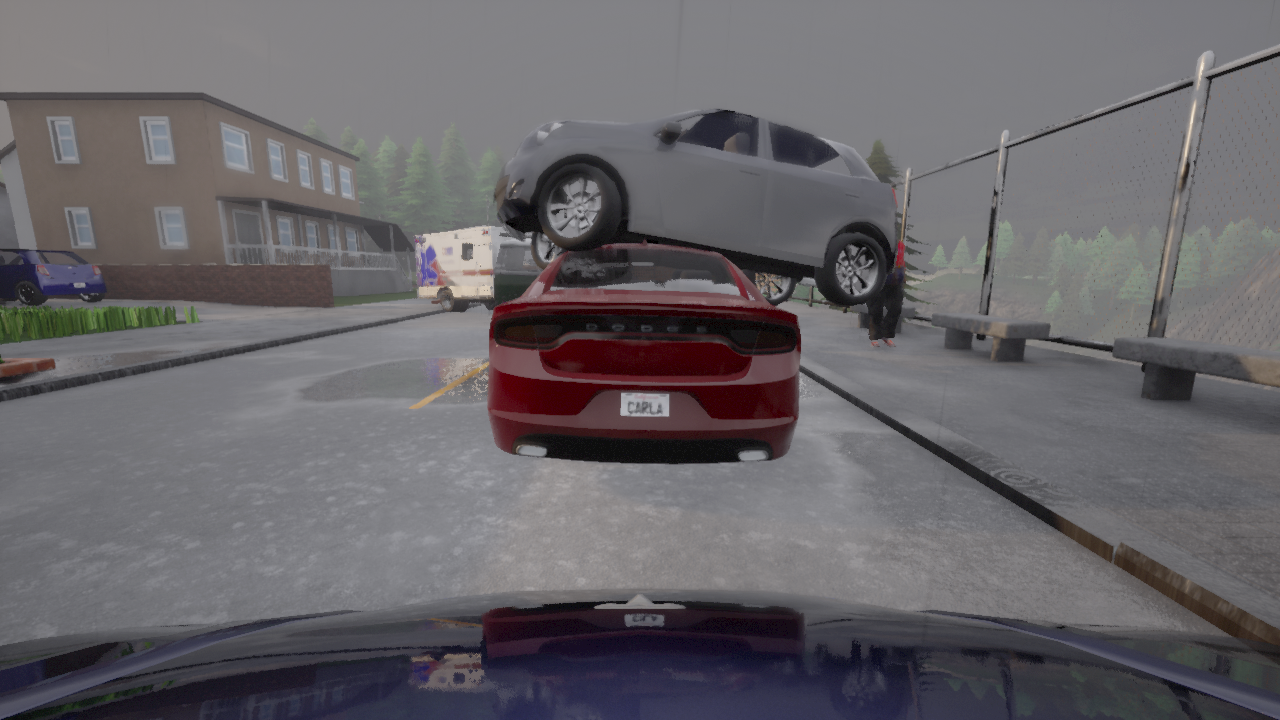cyclist: (0, 588, 1279, 719), (494, 108, 897, 305), (488, 237, 801, 463), (413, 225, 532, 312), (0, 248, 106, 305), (495, 239, 543, 305)
pedestrian: (866, 225, 906, 347)
